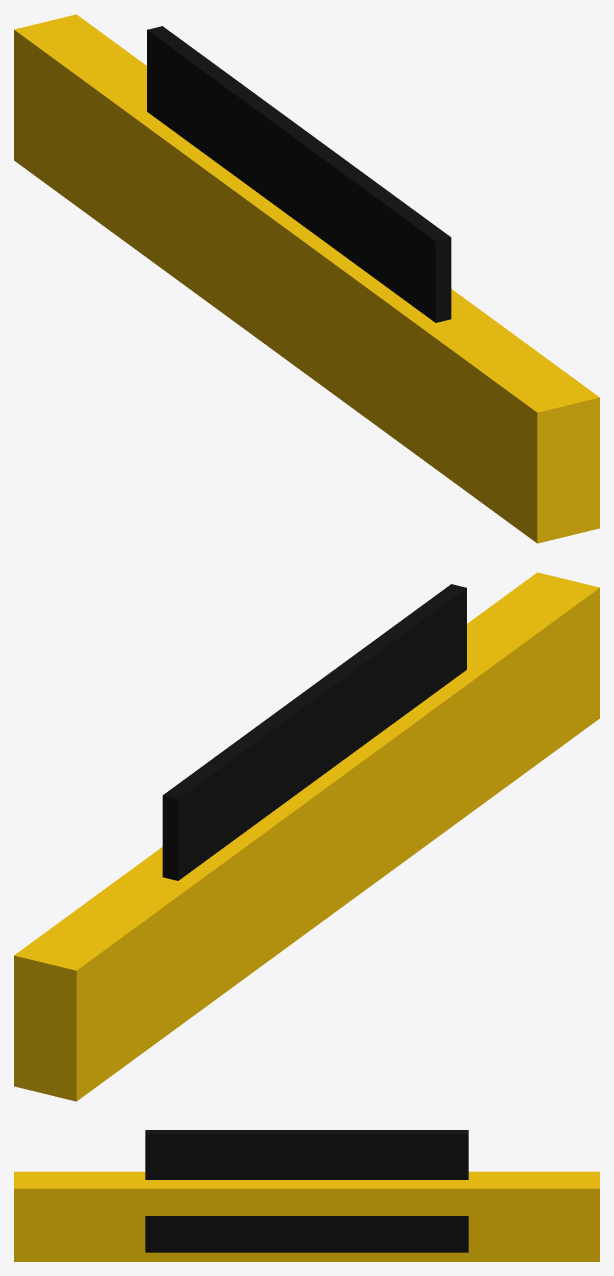
Rendered from sports_car_front_bumper.glb.
The picture shows the model from 3 angles, top to bottom: view 1: azimuth 30°, elevation 25°; view 2: azimuth 150°, elevation 25°; view 3: azimuth 270°, elevation 25°; orthographic projection. The views are drawn at different scales.
Parts seen in each view (by area): view 1: body:compound; view 2: body:compound; view 3: body:compound.
Part boxes in pixels (x1,y1,x2,y2): body:compound: [14, 14, 599, 543]; body:compound: [14, 572, 599, 1101]; body:compound: [14, 1130, 599, 1261].
Bounding box in the file's own units: 0.125 × 0.4062 × 1.81.
